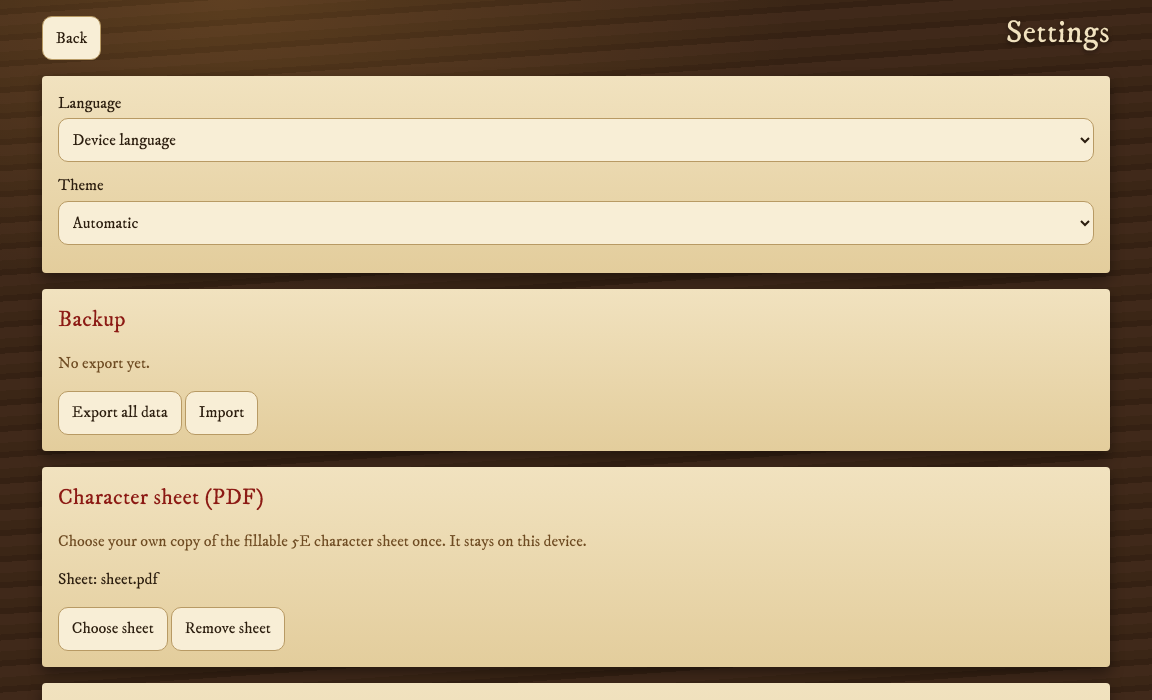
Scenario: character sheet template › removes the sheet
Click the button "Remove sheet" at point(228, 629), box [171,607,285,651]
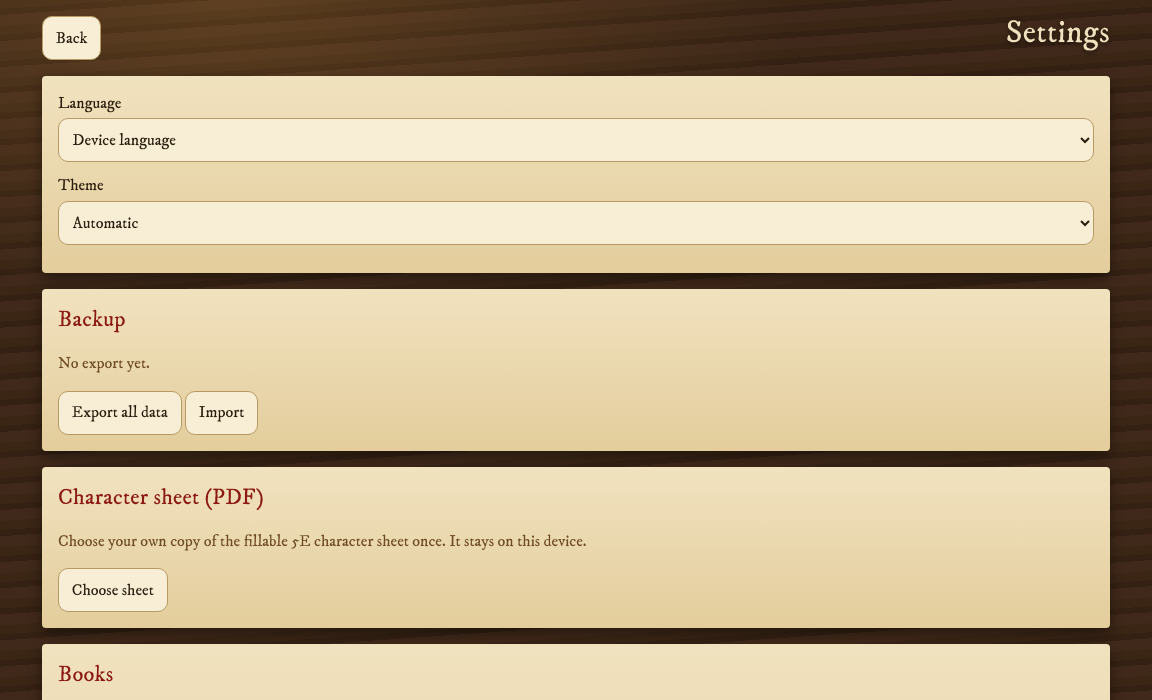
expect the text "Sheet: sheet.pdf" is gone: met
